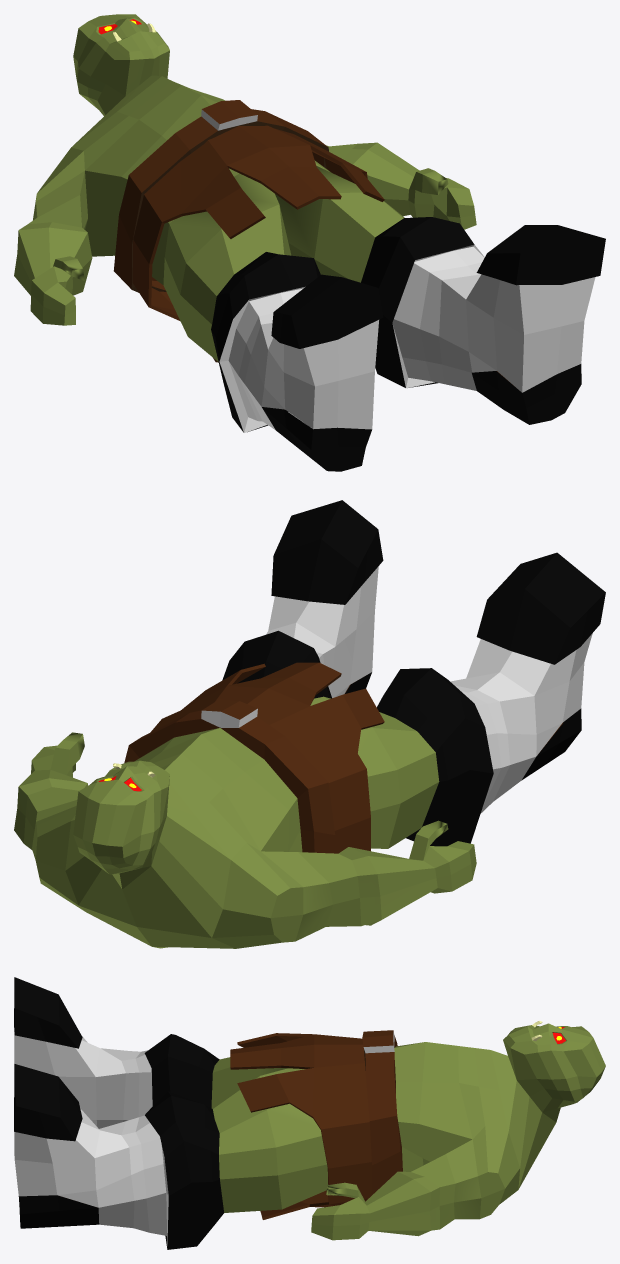
The model's file is orc 1.fbx.
3 renders of one model, top to bottom at view 1: azimuth 30°, elevation 25°; view 2: azimuth 150°, elevation 25°; view 3: azimuth 270°, elevation 25°, orthographic. The views are drawn at different scales.
Visible parts, largest first — view 1: orc; view 2: orc; view 3: orc.
Boxes of the visible parts, x1,y1,x2,y2 form: orc: (14, 14, 605, 471); orc: (14, 500, 605, 948); orc: (14, 977, 605, 1249).
Size of the model in its own units: 270 by 133 by 389.
